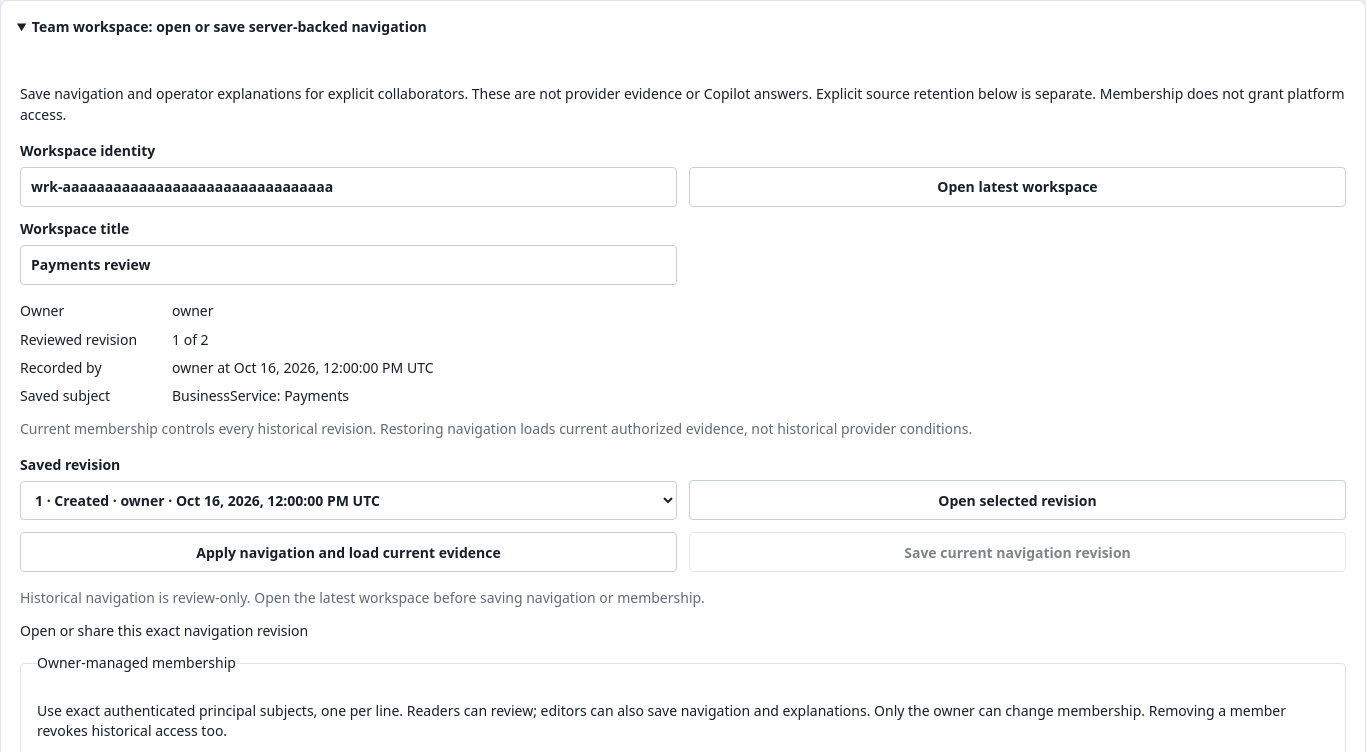
Scenario: team Investigation navigation › withholds mutations while reviewing an older navigation revision
Check: the text "Saved subject" is shown, box [20, 386, 110, 405]
Check: the button "Save current navigation revision" is disabled, box [689, 532, 1346, 572]
Select "2 · Created · owner · Oct 16, 2026, 12:00:00 PM UTC" in the dropdown labelled "Saved revision": (348, 501) [20, 481, 677, 520]
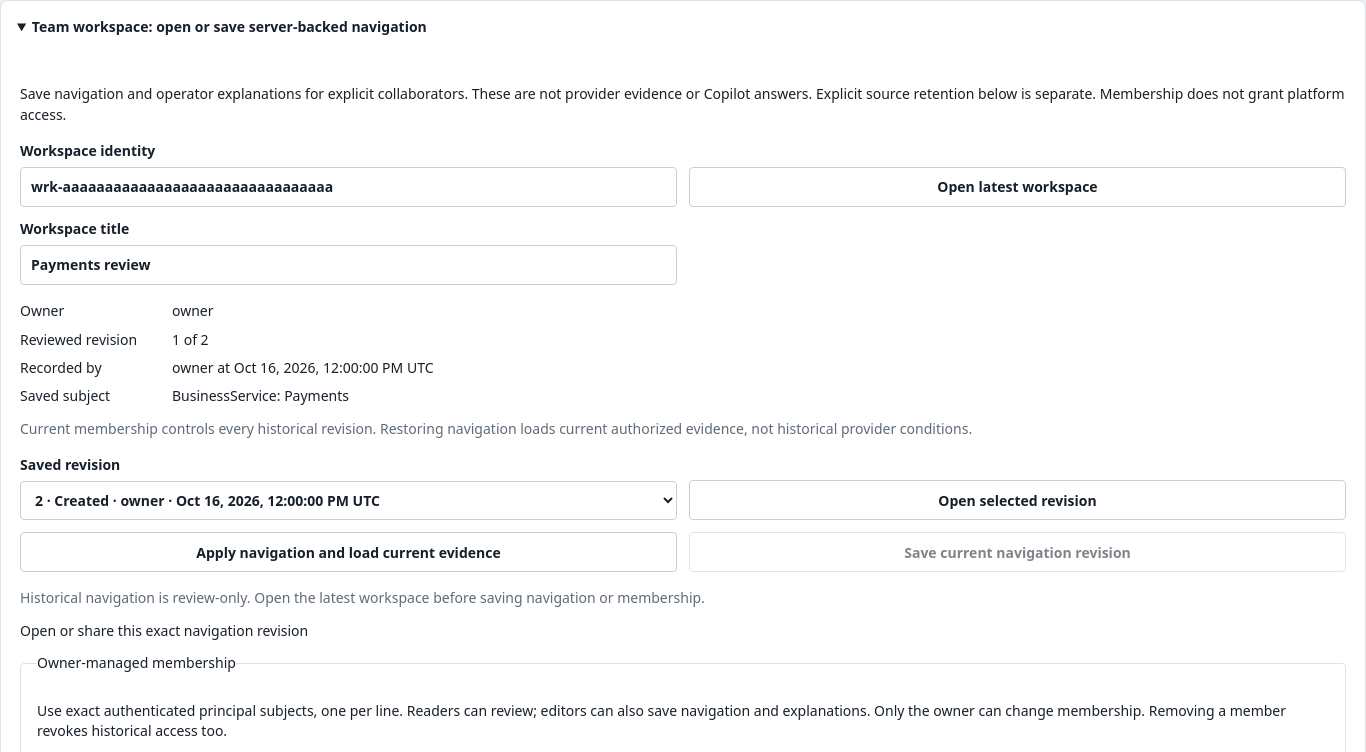
Click the button "Open selected revision": (1018, 500) [689, 480, 1346, 520]
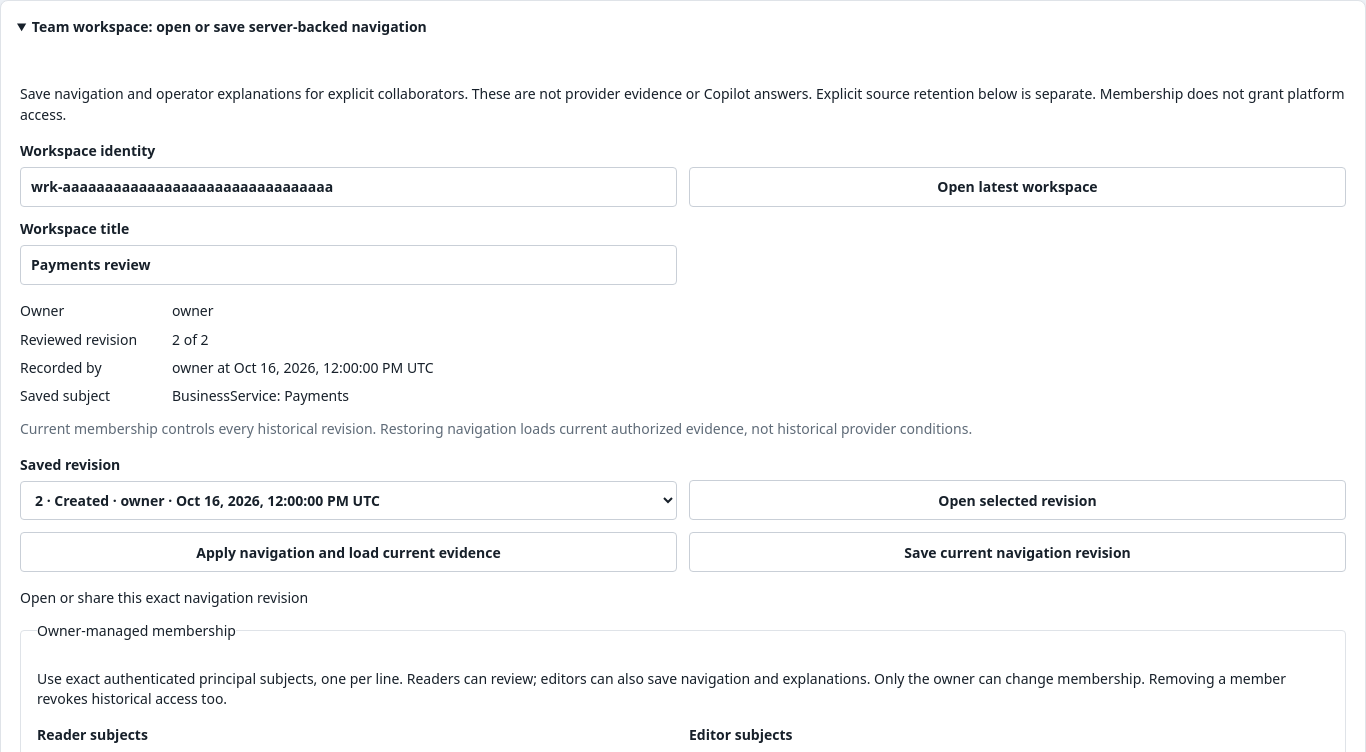
Check: the text "2 of 2" is shown, box [172, 330, 209, 349]
